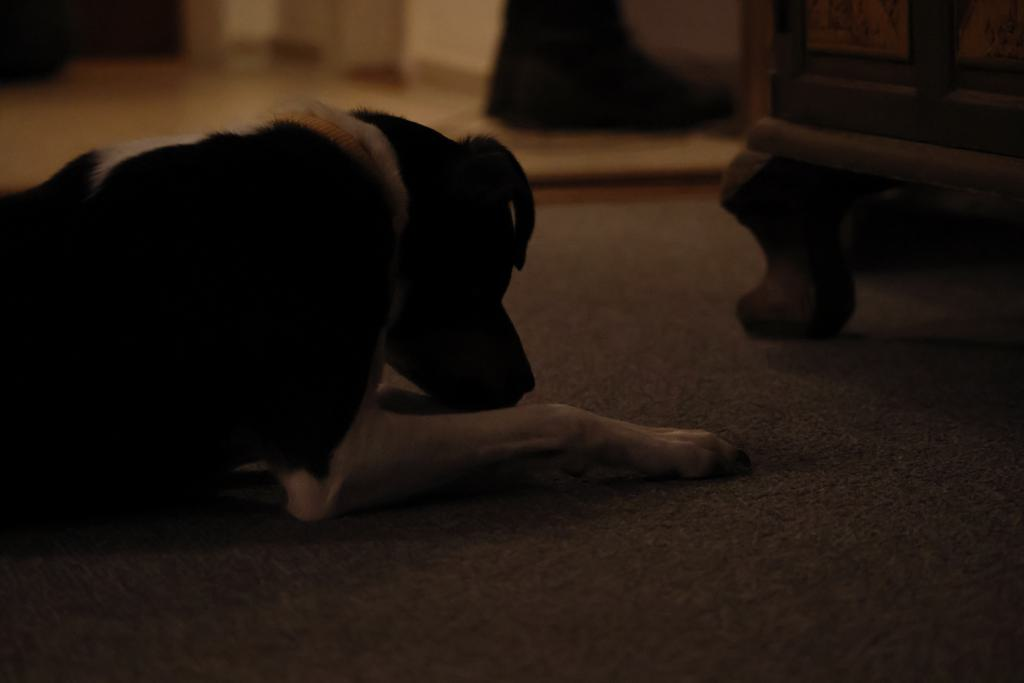Dog: (0, 81, 771, 535)
